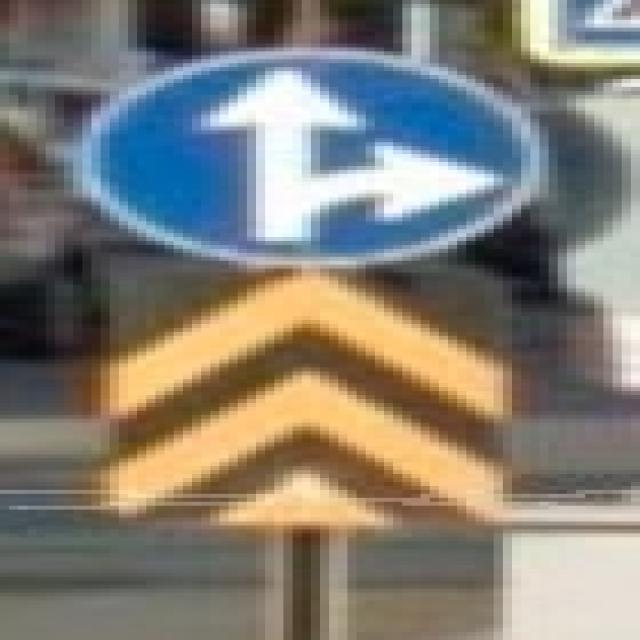Straight or Right: (74, 54, 531, 260)
